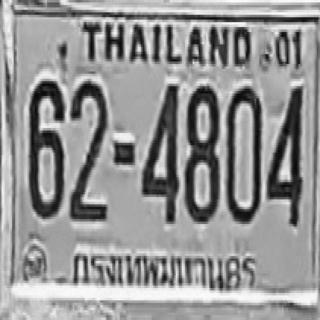N00: (226, 85, 261, 223)
N02: (68, 78, 106, 220)
N04: (140, 80, 178, 220), (266, 84, 302, 224)
N06: (28, 79, 63, 217)
N08: (184, 84, 218, 219)
P04: (72, 239, 257, 297)
